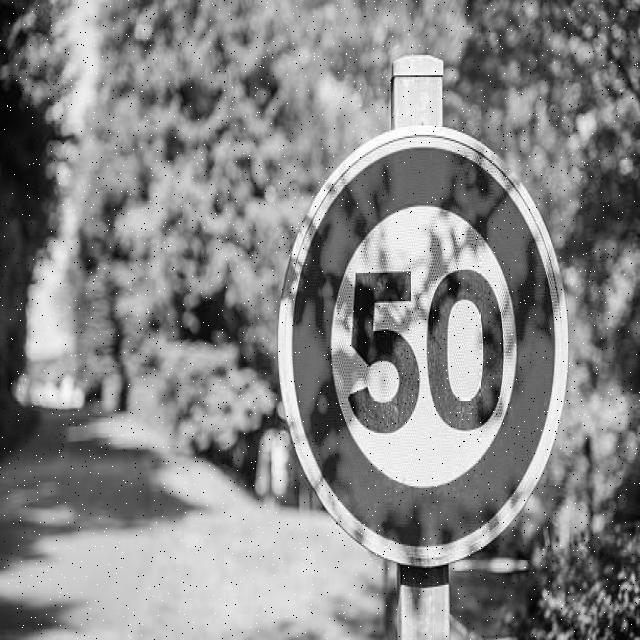speed_limit_50: (280, 126, 578, 569)
